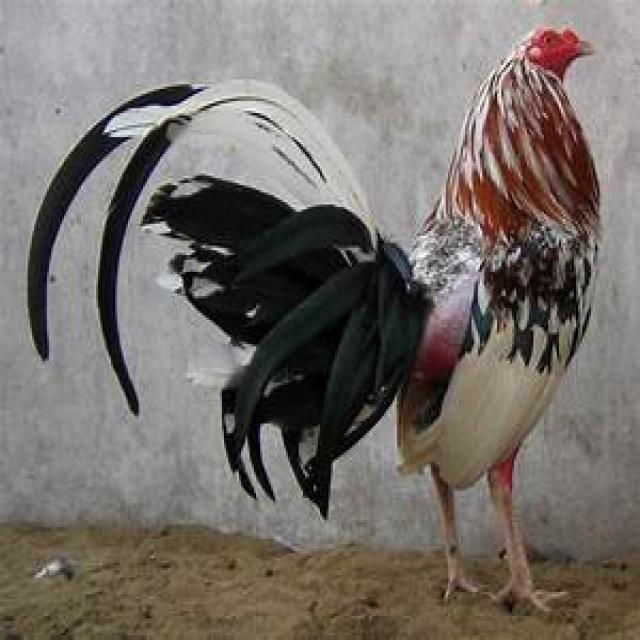hen: (26, 29, 604, 616)
